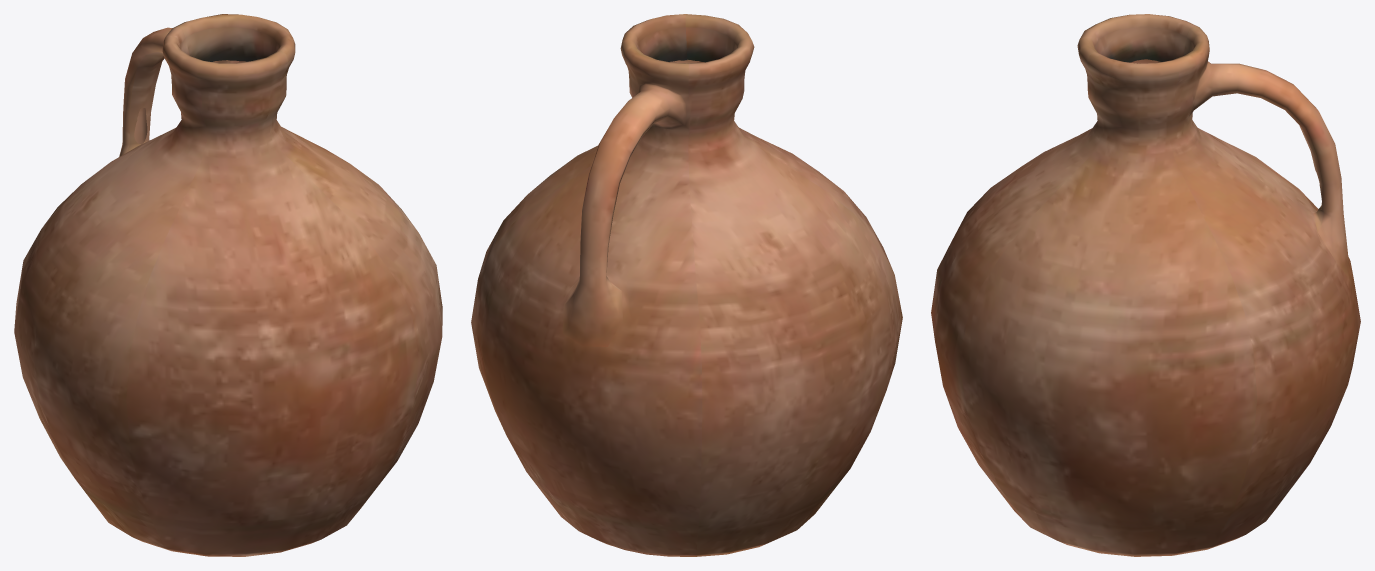
The picture shows the model from 3 angles, left to right: view 1: azimuth 30°, elevation 25°; view 2: azimuth 150°, elevation 25°; view 3: azimuth 270°, elevation 25°; orthographic projection.
Visible parts, largest first — view 1: SM_Pot_01_LOD0; view 2: SM_Pot_01_LOD0; view 3: SM_Pot_01_LOD0.
Boxes of the visible parts, left/top/right/bottom form: SM_Pot_01_LOD0: left=14, top=14, right=442, bottom=556; SM_Pot_01_LOD0: left=471, top=14, right=902, bottom=556; SM_Pot_01_LOD0: left=931, top=14, right=1360, bottom=556.
Size of the model in its own units: 0.3924 by 0.4707 by 0.3919.
Materials: 1 (1 with a texture image).
